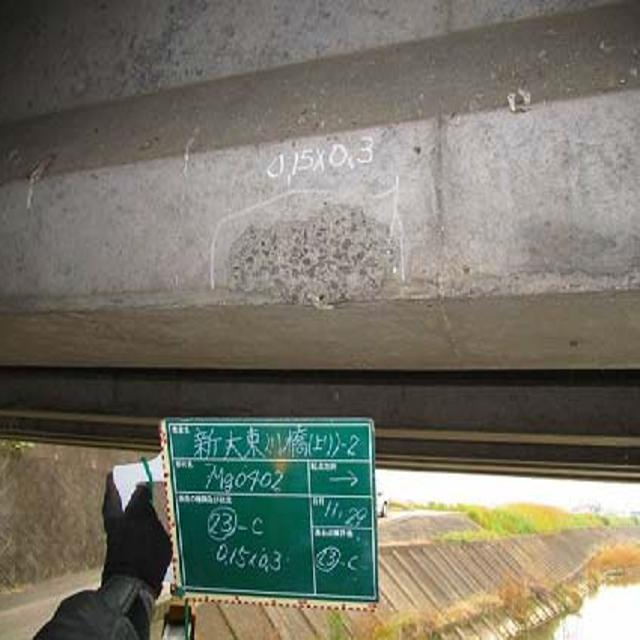spalling: (212, 184, 412, 337)
